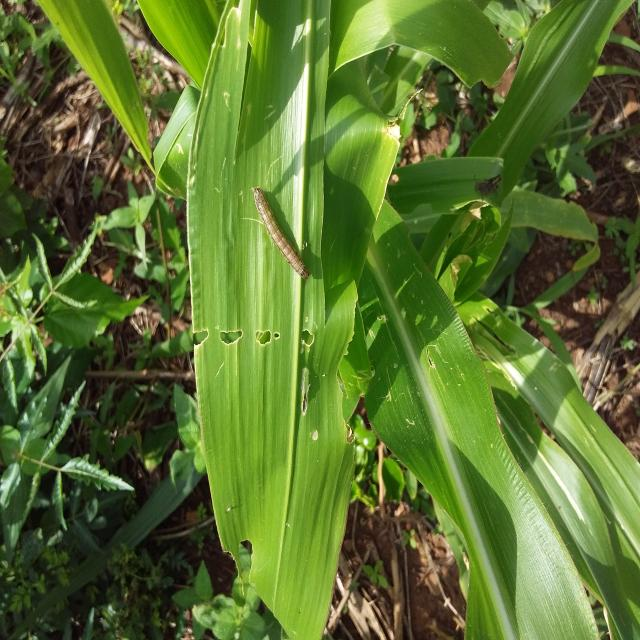yellow-stem-borer-larva: (237, 185, 329, 301)
